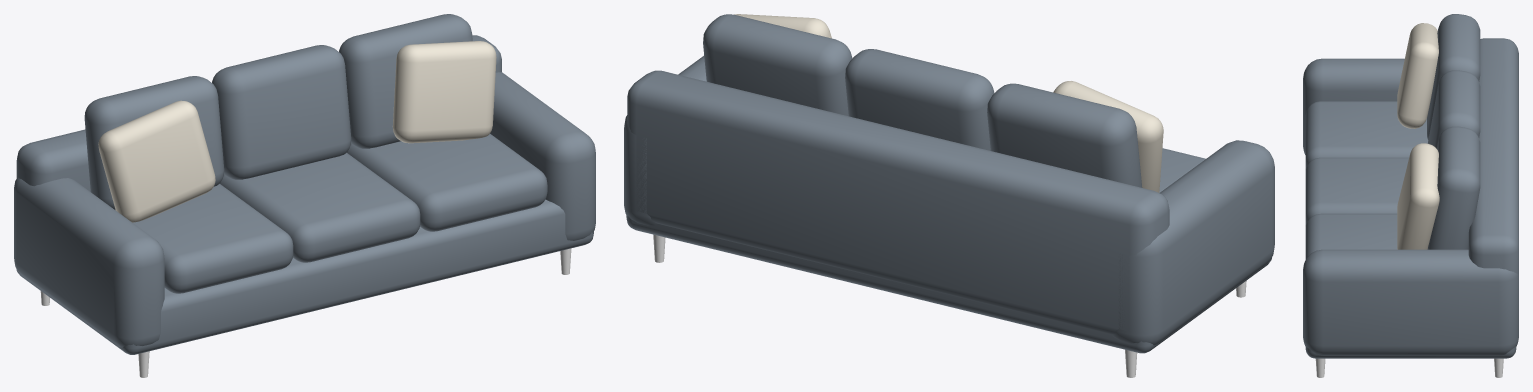
The model's file is sofa.glb.
The picture shows the model from 3 angles, left to right: view 1: azimuth 30°, elevation 25°; view 2: azimuth 150°, elevation 25°; view 3: azimuth 270°, elevation 25°; orthographic projection. The views are drawn at different scales.
Parts seen in each view (by area): view 1: p; view 2: p; view 3: p.
Part boxes in pixels (<box>): p: <box>14,14,595,377</box>; p: <box>624,14,1274,377</box>; p: <box>1303,14,1518,377</box>.
Bounding box in the file's own units: 2 × 0.8398 × 0.86.
